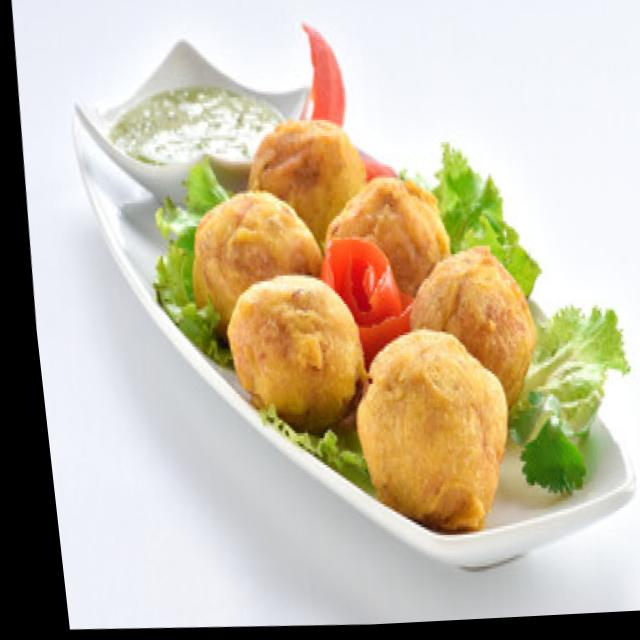BONDA: (191, 118, 537, 533)
GREEN CHUTNEY: (104, 85, 288, 165)
